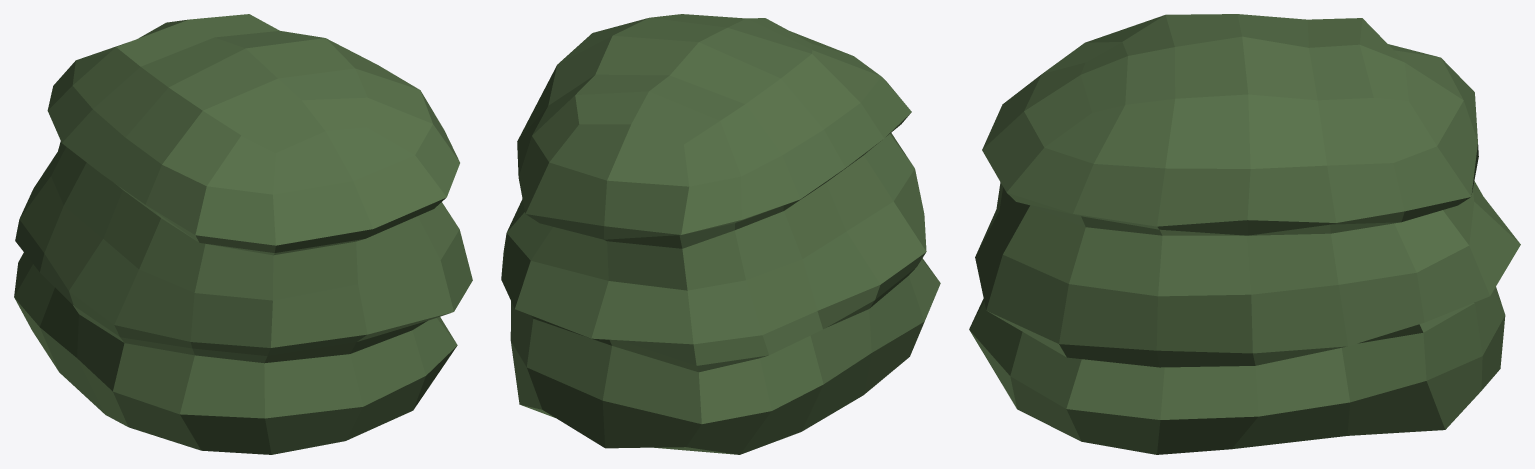
The model's file is Bush_1.gltf.
3 views of the same model, side by side, from view 1: azimuth 30°, elevation 25°; view 2: azimuth 150°, elevation 25°; view 3: azimuth 270°, elevation 25° (orthographic). The views are drawn at different scales.
Visible parts, largest first — view 1: Bush_1; view 2: Bush_1; view 3: Bush_1.
Part boxes in pixels (x1=…): Bush_1: x1=14, y1=14, x2=472, y2=454; Bush_1: x1=501, y1=14, x2=940, y2=454; Bush_1: x1=969, y1=14, x2=1520, y2=454.
Bounding box in the file's own units: 1.33 × 1.24 × 1.69.
